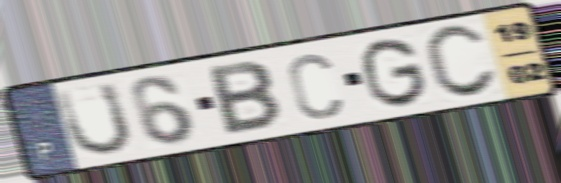6: (129, 73, 199, 150)
B: (205, 59, 284, 139)
C: (421, 22, 501, 102), (285, 51, 346, 123)
G: (359, 35, 431, 110)
U: (54, 79, 136, 159)
